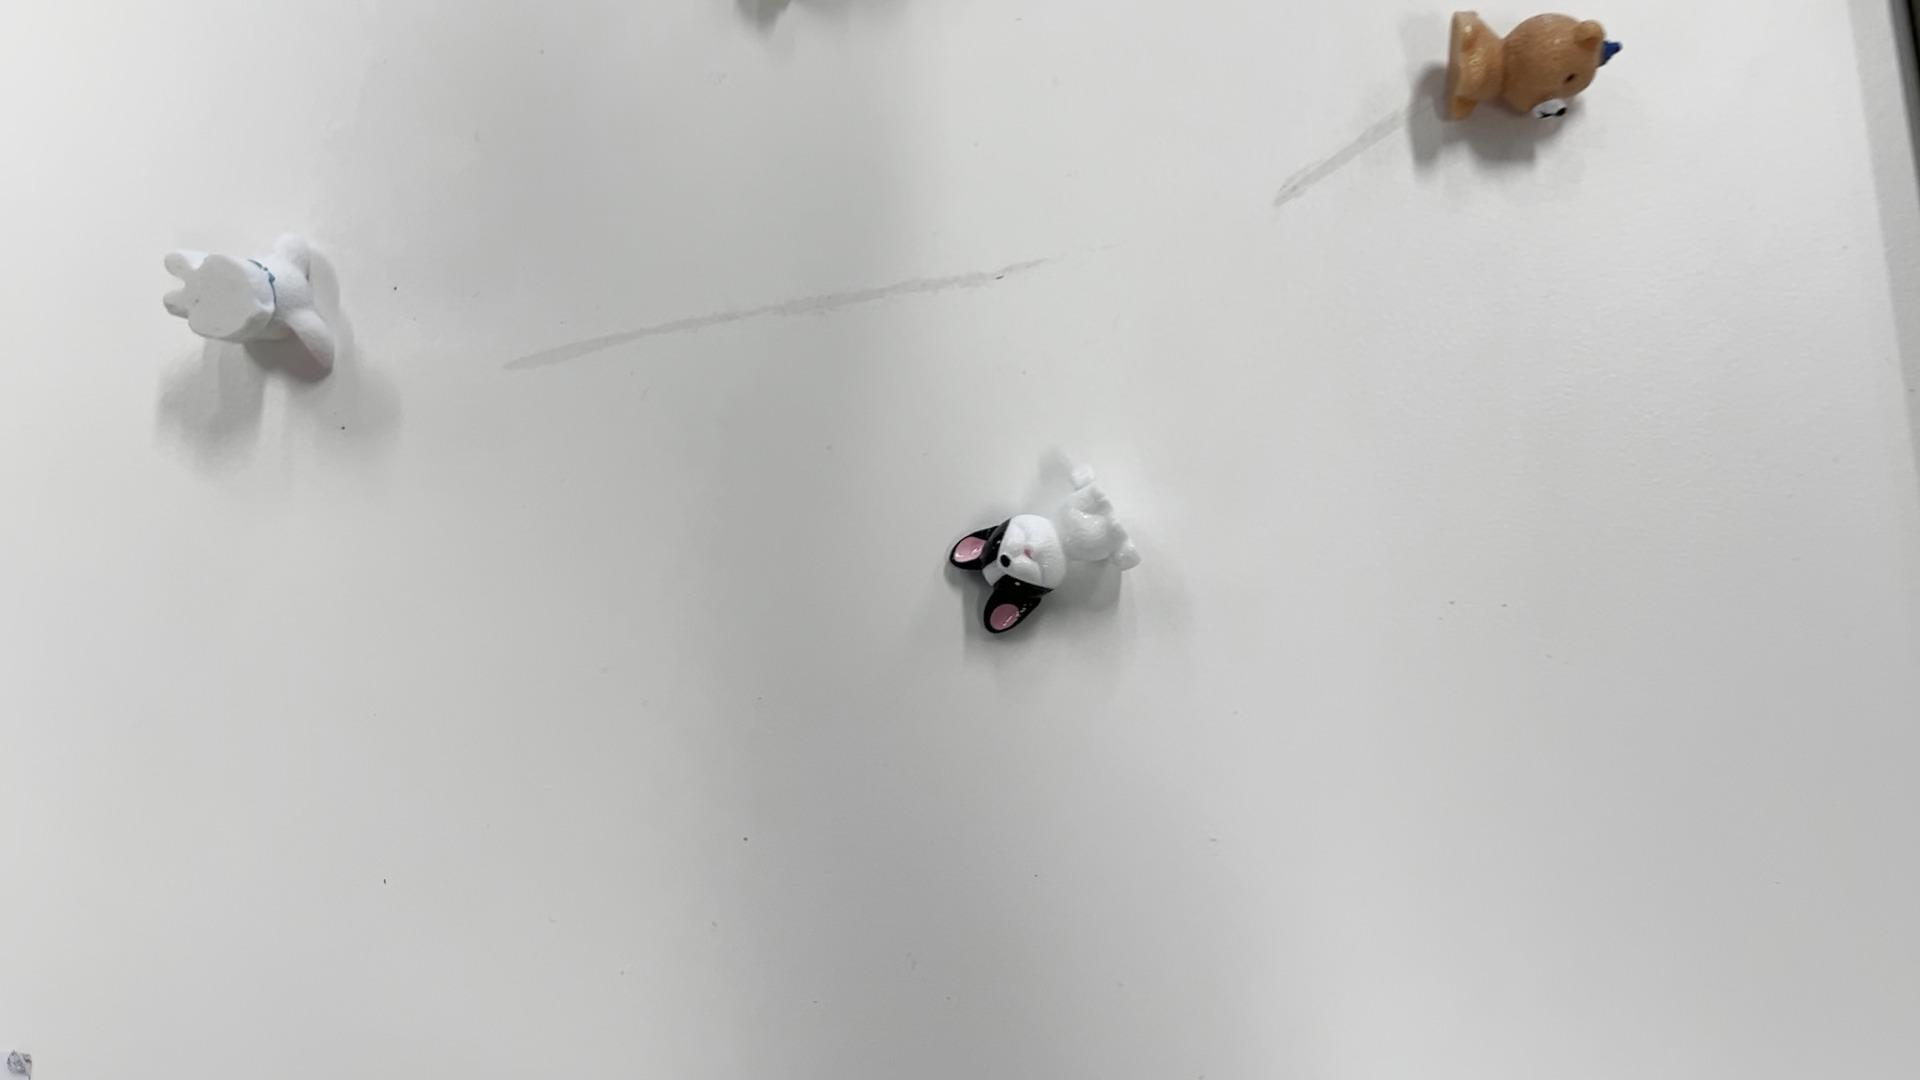pet: (1346, 0, 1705, 196), (152, 166, 393, 439), (932, 451, 1183, 675)
